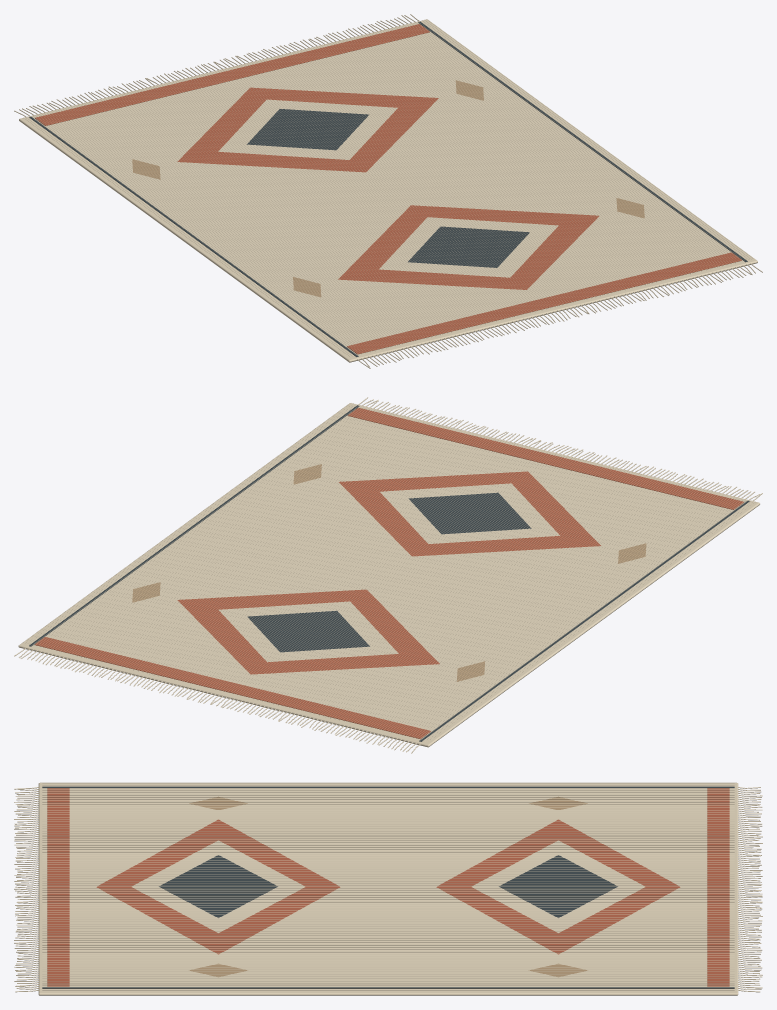
The model's file is rug.glb.
The picture shows the model from 3 angles, top to bottom: view 1: azimuth 30°, elevation 25°; view 2: azimuth 150°, elevation 25°; view 3: azimuth 270°, elevation 25°; orthographic projection. The views are drawn at different scales.
Parts seen in each view (by area): view 1: Woven rug foundation, Terracotta woven medallion, Terracotta woven medallion.001, Terracotta end stripe, Terracotta end stripe.001, Cream inset, Cream inset.001, Ink diamond, Ink diamond.001, Ink selvedge.001, Ink selvedge; view 2: Woven rug foundation, Terracotta woven medallion.001, Terracotta woven medallion, Terracotta end stripe, Terracotta end stripe.001, Cream inset.001, Cream inset, Ink diamond.001, Ink diamond, Ink selvedge.001, Ink selvedge; view 3: Woven rug foundation, Terracotta woven medallion, Terracotta woven medallion.001, Terracotta end stripe, Terracotta end stripe.001, Cream inset, Cream inset.001, Ink diamond, Ink diamond.001, Ink selvedge, Ink selvedge.001, Fine warp thread.001 (+126 smaller).
Part boxes in pixels (box(x1,y1,x2,y2)): Woven rug foundation: box(19, 19, 757, 362); Terracotta woven medallion: box(338, 205, 598, 289); Terracotta woven medallion.001: box(177, 87, 438, 172); Terracotta end stripe: box(347, 252, 741, 354); Terracotta end stripe.001: box(35, 24, 429, 125); Cream inset: box(379, 217, 558, 277); Cream inset.001: box(218, 99, 397, 159); Ink diamond: box(408, 226, 529, 267); Ink diamond.001: box(247, 109, 368, 150); Ink selvedge.001: box(418, 21, 747, 262); Ink selvedge: box(29, 117, 358, 356); Woven rug foundation: box(18, 403, 759, 747); Terracotta woven medallion.001: box(177, 589, 439, 674); Terracotta woven medallion: box(339, 471, 600, 556); Terracotta end stripe: box(347, 407, 743, 509); Terracotta end stripe.001: box(34, 637, 430, 739); Cream inset.001: box(218, 601, 398, 662); Cream inset: box(380, 483, 559, 543); Ink diamond.001: box(247, 610, 369, 652); Ink diamond: box(408, 492, 531, 534); Ink selvedge.001: box(29, 405, 359, 646); Ink selvedge: box(419, 500, 749, 741); Woven rug foundation: box(38, 782, 738, 995); Terracotta woven medallion: box(96, 819, 340, 954); Terracotta woven medallion.001: box(436, 819, 680, 954); Terracotta end stripe: box(47, 788, 69, 986); Terracotta end stripe.001: box(707, 788, 729, 986); Cream inset: box(132, 840, 304, 932); Cream inset.001: box(472, 840, 644, 932); Ink diamond: box(159, 855, 277, 917); Ink diamond.001: box(499, 855, 617, 917); Ink selvedge: box(42, 786, 734, 787); Ink selvedge.001: box(42, 987, 734, 988); Fine warp thread.001: box(42, 783, 734, 783).
Bounding box in the file's own units: 2 × 0.0195 × 3.
